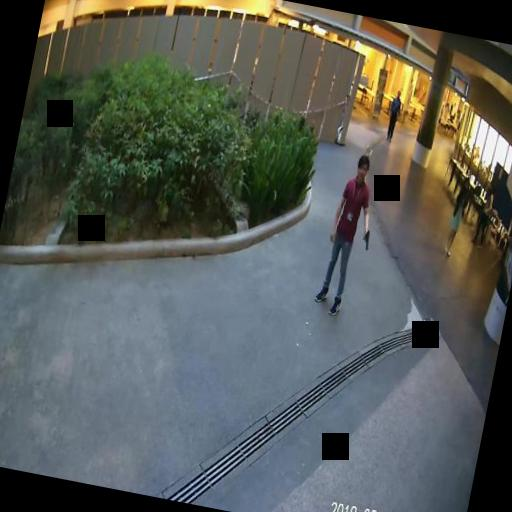Handgun: (360, 228, 370, 249)
